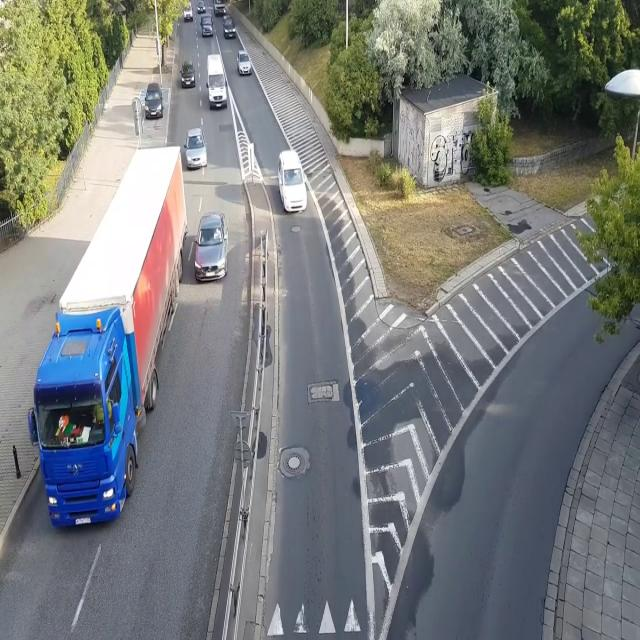car: (192, 211, 230, 284), (184, 128, 208, 170), (142, 81, 164, 120), (178, 60, 197, 90), (236, 47, 252, 78), (196, 0, 206, 15)
truck: (27, 146, 188, 534), (213, 1, 228, 17)
van: (278, 148, 309, 212), (204, 53, 229, 113), (222, 15, 236, 41), (200, 13, 214, 38), (182, 3, 194, 23)
